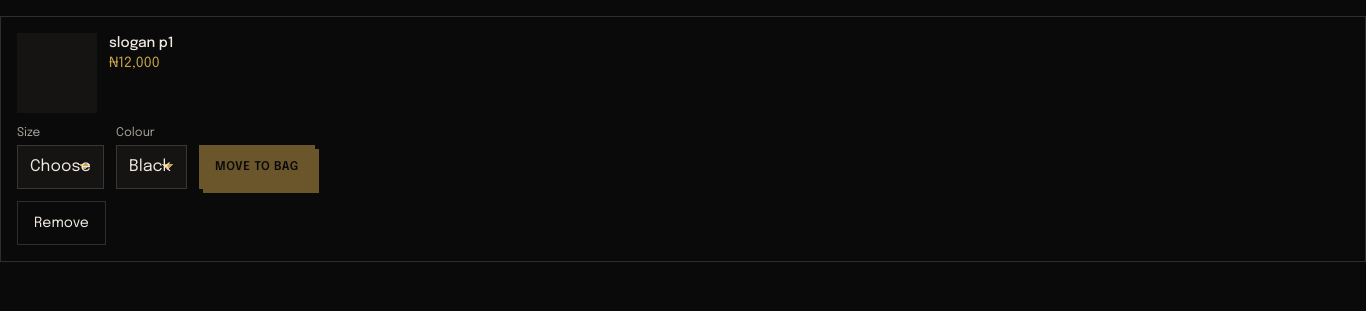
Scenario: Wishlist › shows the server's reason when a move is refused, keeping the item
Select "M" in the dropdown labelled "Size" at (60, 167), box [17,145,104,189]
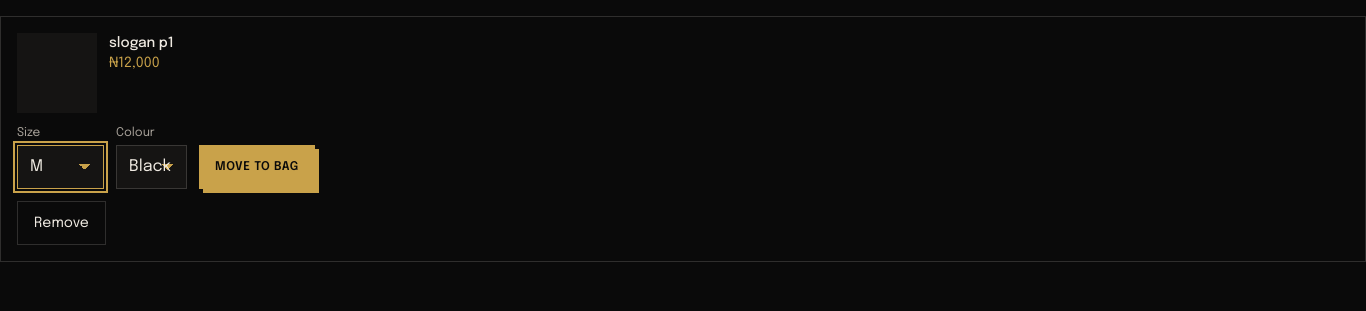
Click the button with aria-label "Move slogan p1 to bag" at (257, 167), box [199,145,315,189]
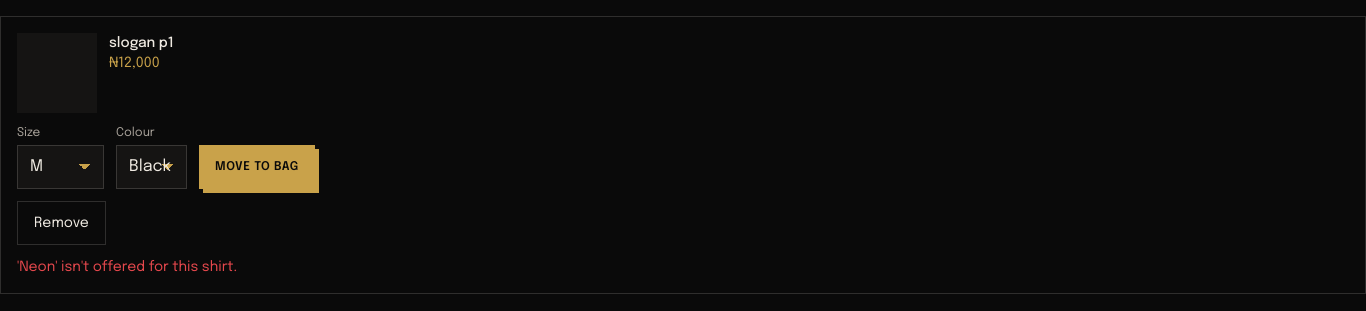
Expected: the link "slogan p1" is shown, [109,36,174,50]
Expected: the message shows "isn't offered for this shirt", [17,260,237,274]
